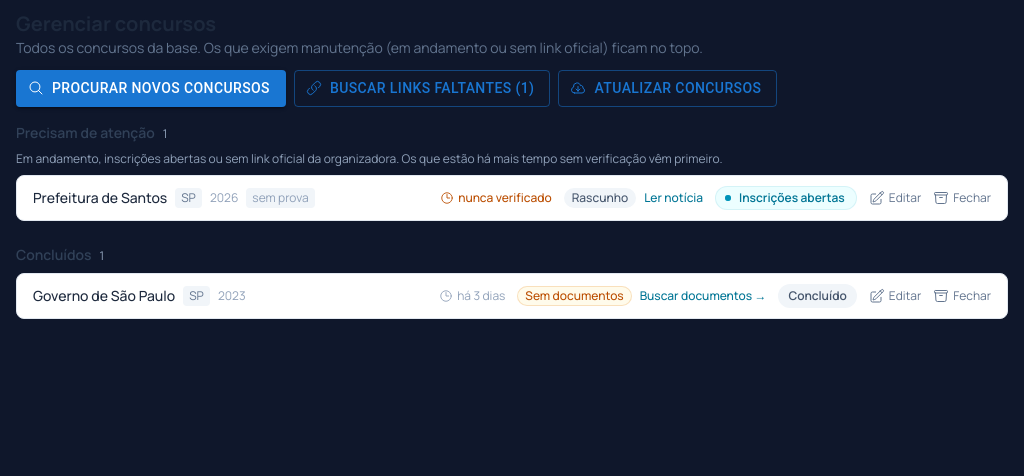
Test: gerenciar concursos (admin) › Atualizar concursos: roda o loop e mostra o relatório
This screenshot has width=1024, height=476.
Expected: the link "Prefeitura de Santos" is shown, [33, 188, 167, 208]
Step 1. Click the button "Atualizar concursos" → (668, 88), box [558, 70, 777, 106]
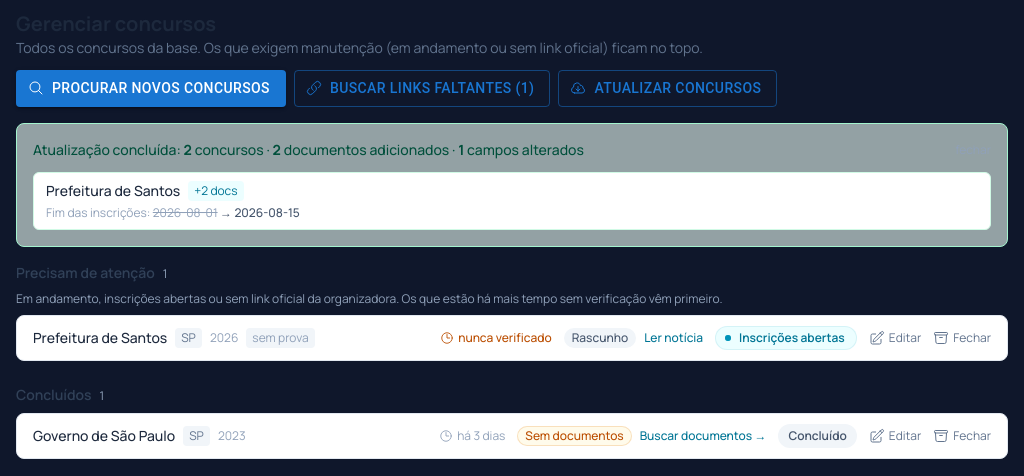
Result: the text "+2 docs" is shown at [188, 180, 244, 200]
Result: the text "Fim das inscrições:" is shown at [46, 204, 150, 220]
Result: the text "2026-08-15" is shown at [234, 204, 300, 220]
